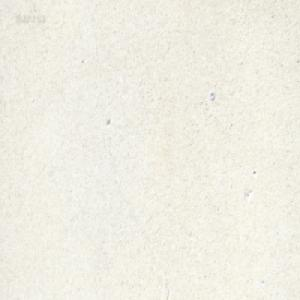Washer: (209, 89, 215, 100)
